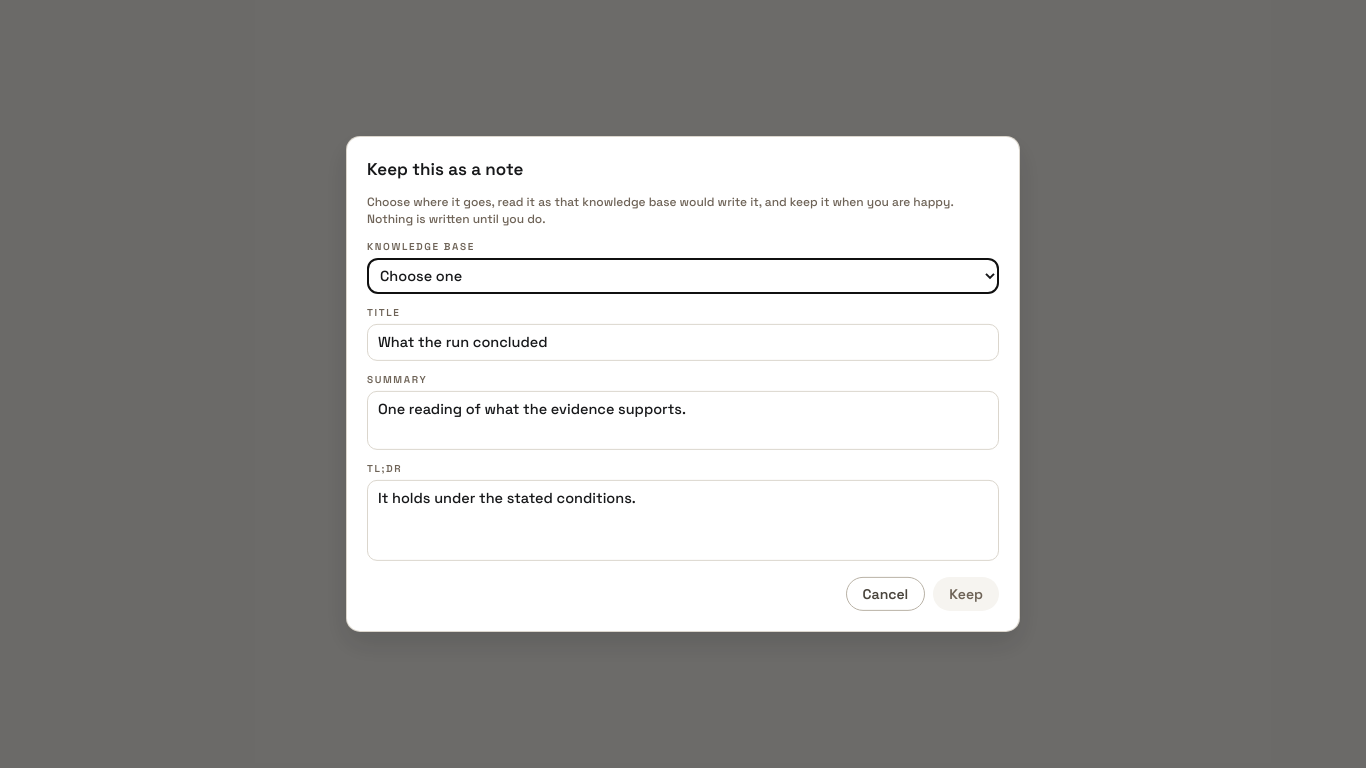
Test: SaveArtifactNote › shows the host's own words when it refuses to keep the note
This screenshot has width=1366, height=768.
Select "notebook" in the dropdown labelled "Knowledge base" at (683, 276), box top-left (367, 258), bottom-right (999, 294)
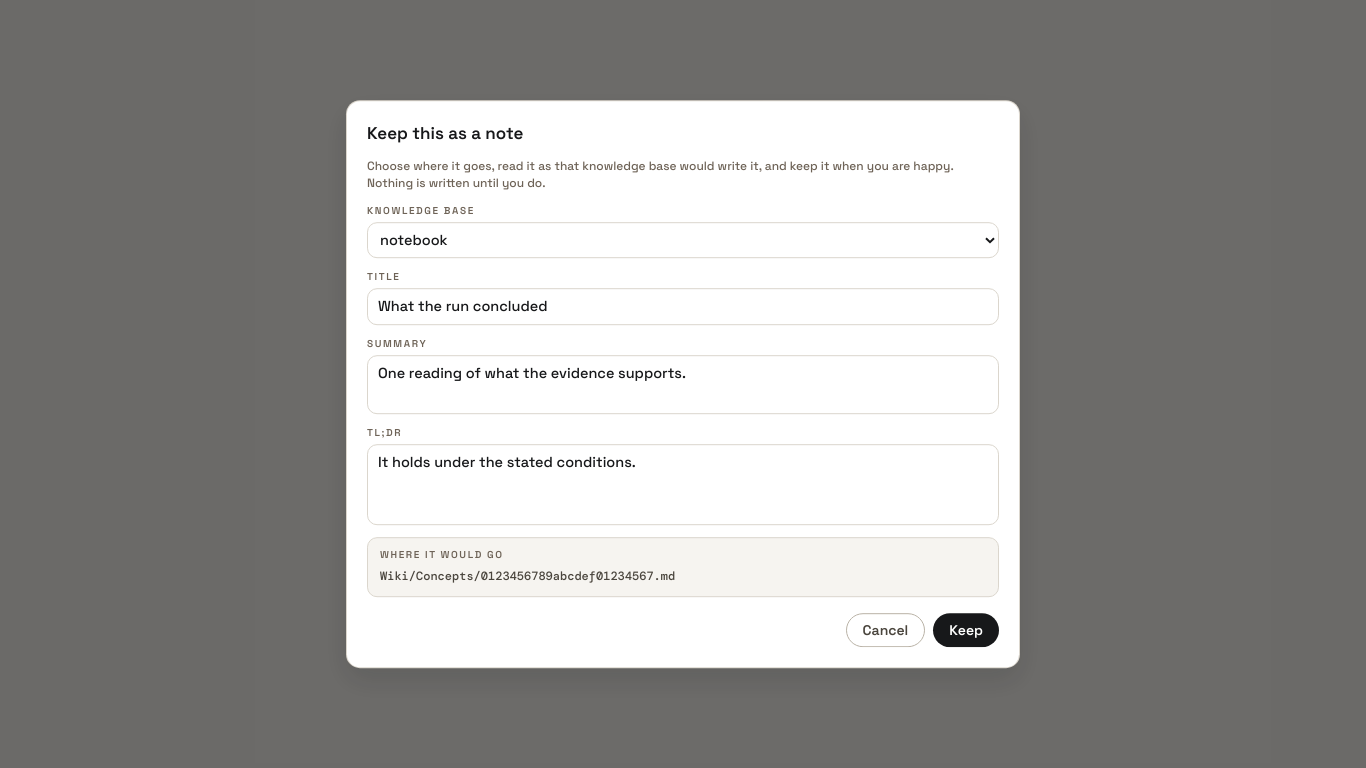
Now the text "Wiki/Concepts/0123456789abcdef01234567.md" is shown, box top-left (380, 568), bottom-right (675, 584)
Click the button "Keep" at (966, 630), box top-left (933, 613), bottom-right (999, 647)
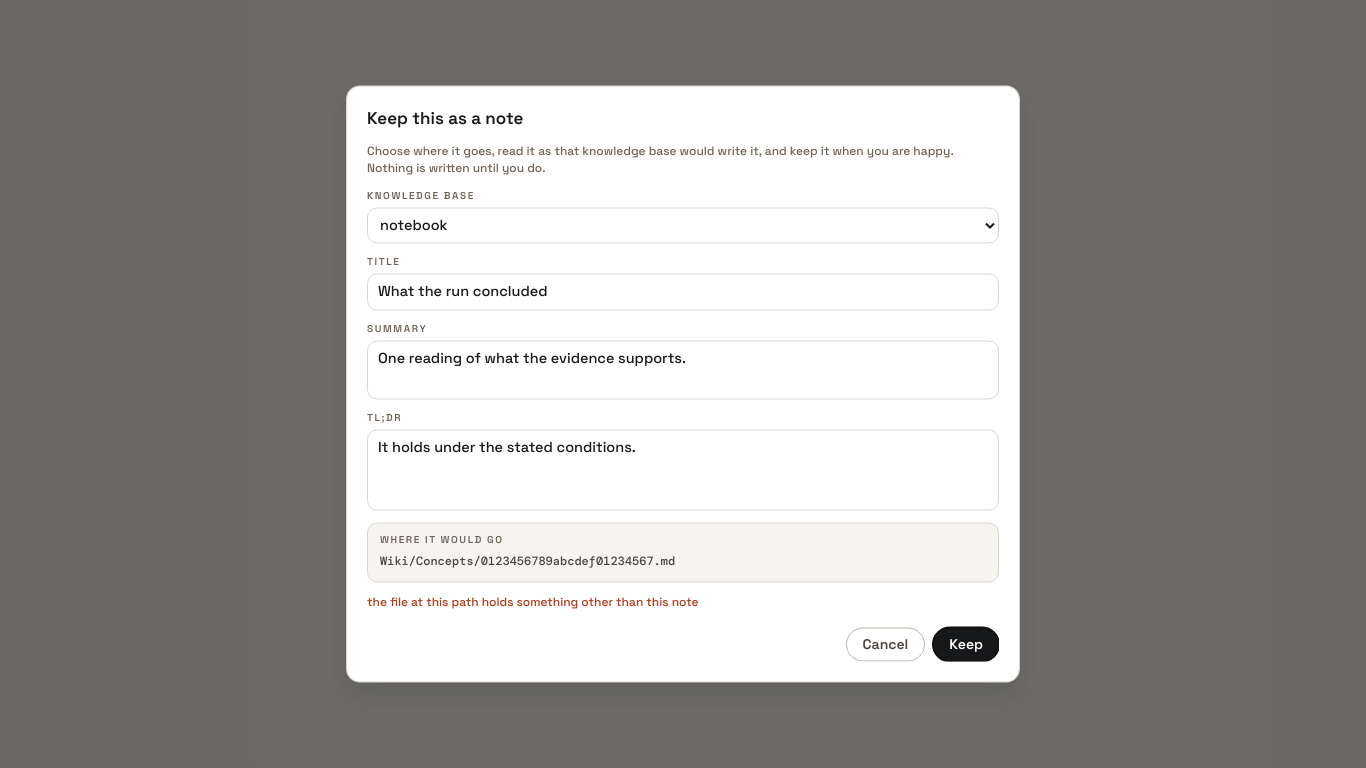
Now the message shows "holds something other than this note", box top-left (367, 594), bottom-right (698, 610)
